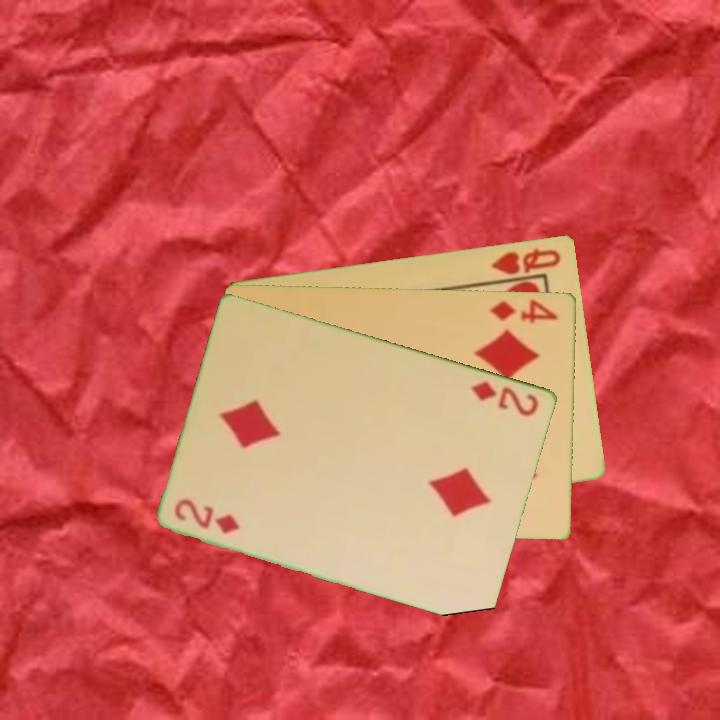2d: (467, 377, 542, 419), (171, 496, 243, 537)
4d: (487, 296, 561, 326)
Qh: (488, 244, 564, 277)
